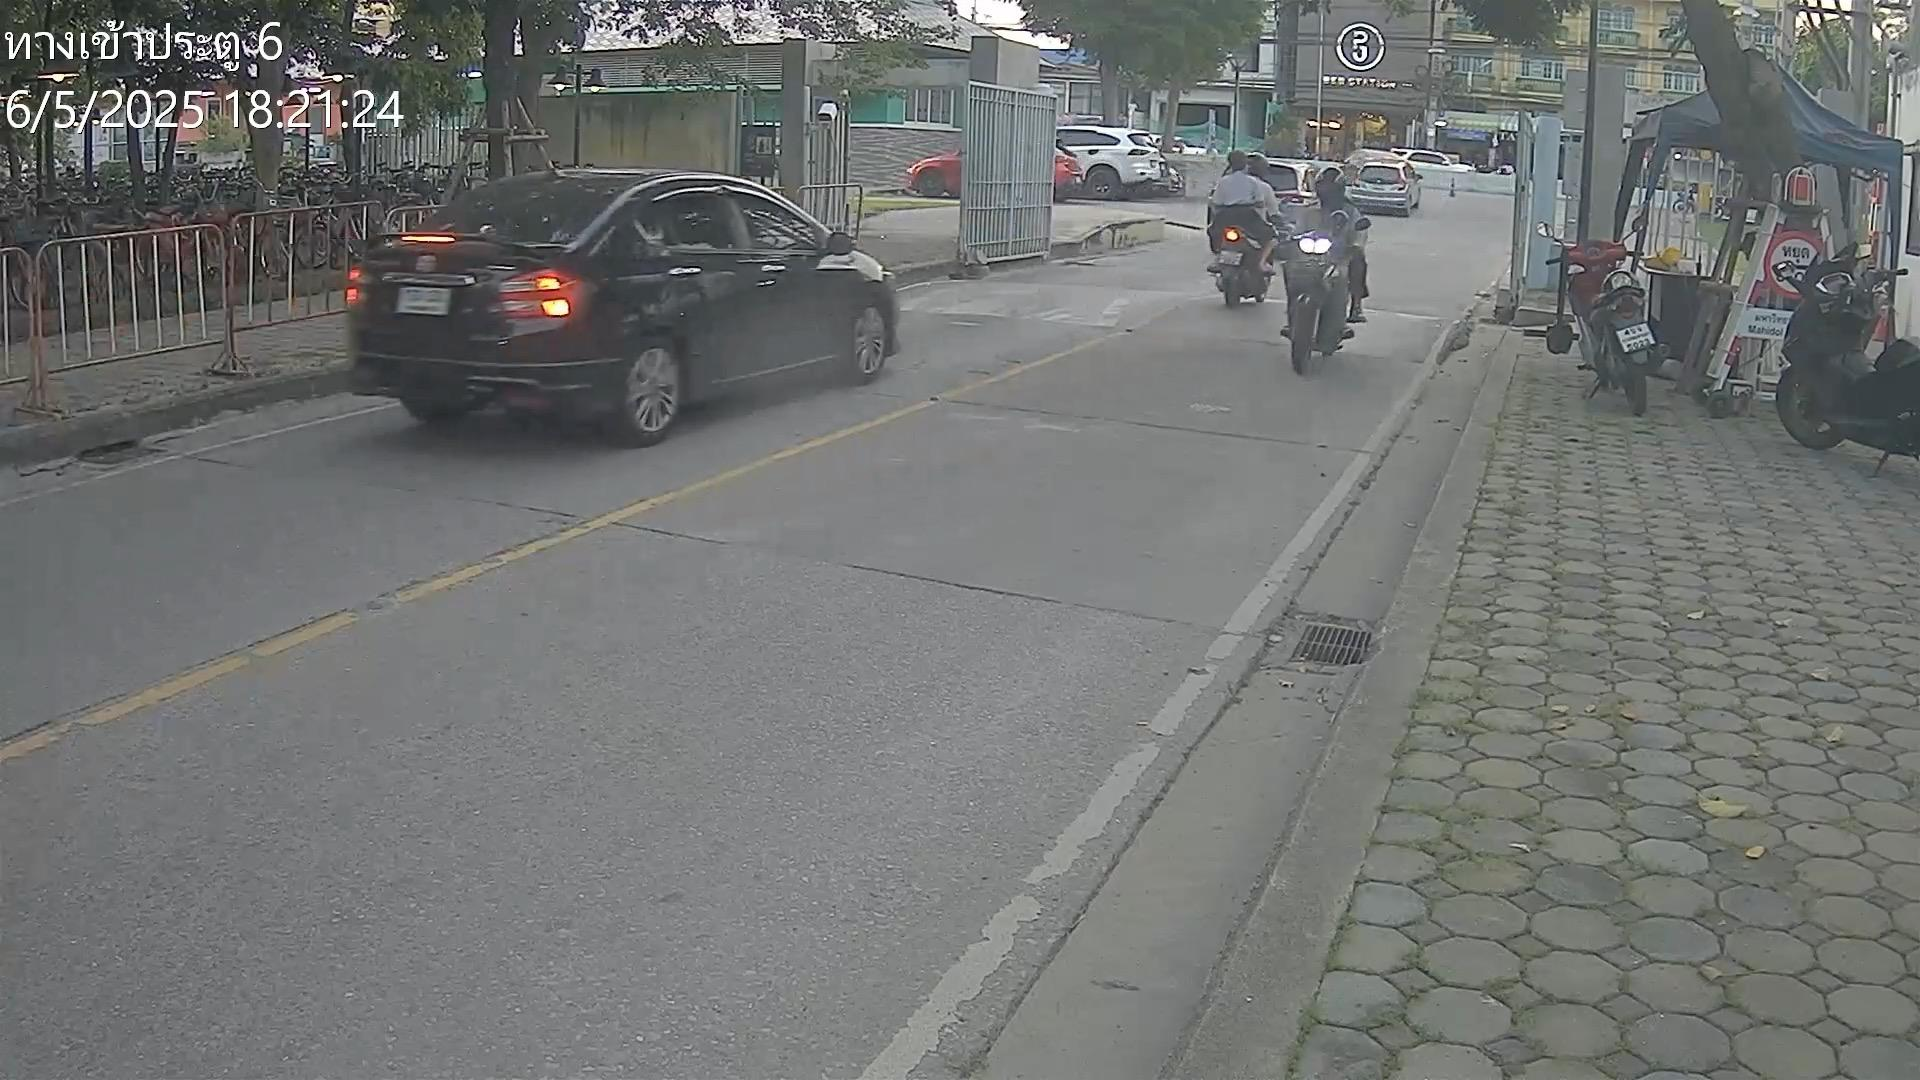With-Helmet: (1313, 166, 1348, 203), (1226, 149, 1247, 173)
